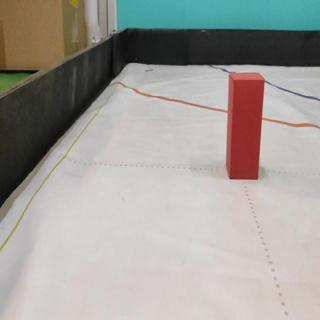redbox: (225, 71, 265, 179)
